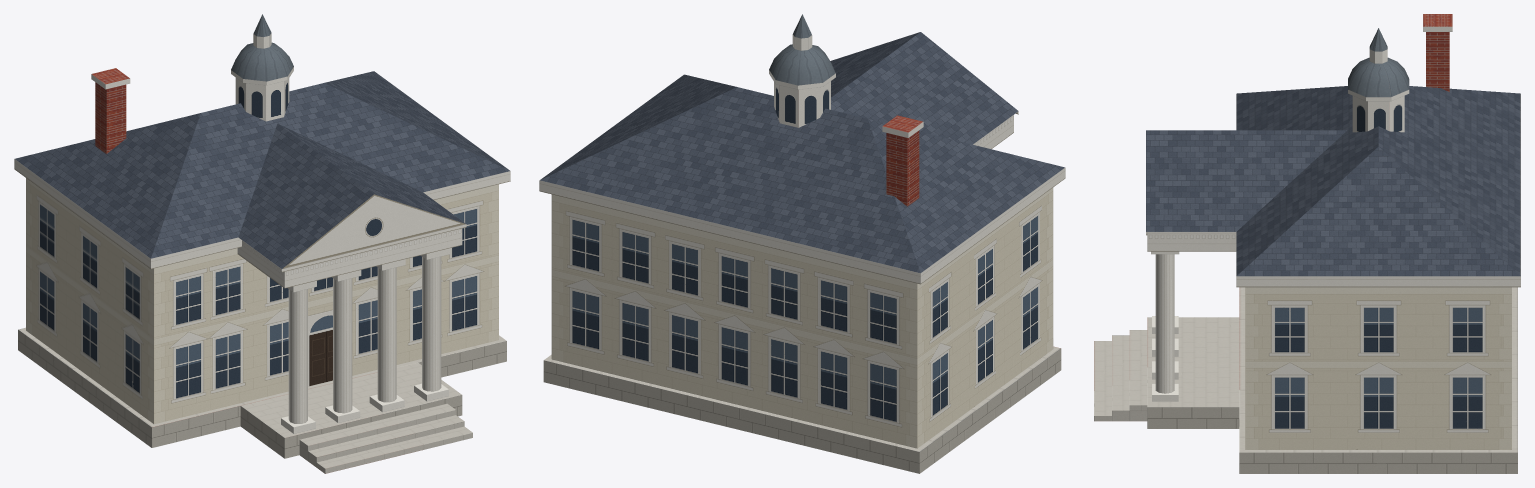
The model's file is whitehouse.obj.
3 views of the same model, side by side, from view 1: azimuth 30°, elevation 25°; view 2: azimuth 150°, elevation 25°; view 3: azimuth 270°, elevation 25° (orthographic). The views are drawn at different scales.
Parts seen in each view (by area): view 1: WhiteHouse; view 2: WhiteHouse; view 3: WhiteHouse.
Boxes of the visible parts, left/top/right/bottom form: WhiteHouse: left=14, top=14, right=510, bottom=473; WhiteHouse: left=539, top=14, right=1065, bottom=473; WhiteHouse: left=1094, top=14, right=1520, bottom=473.
Size of the model in its own units: 14.6 by 13.25 by 14.4.
Materials: 1 (1 with a texture image).
